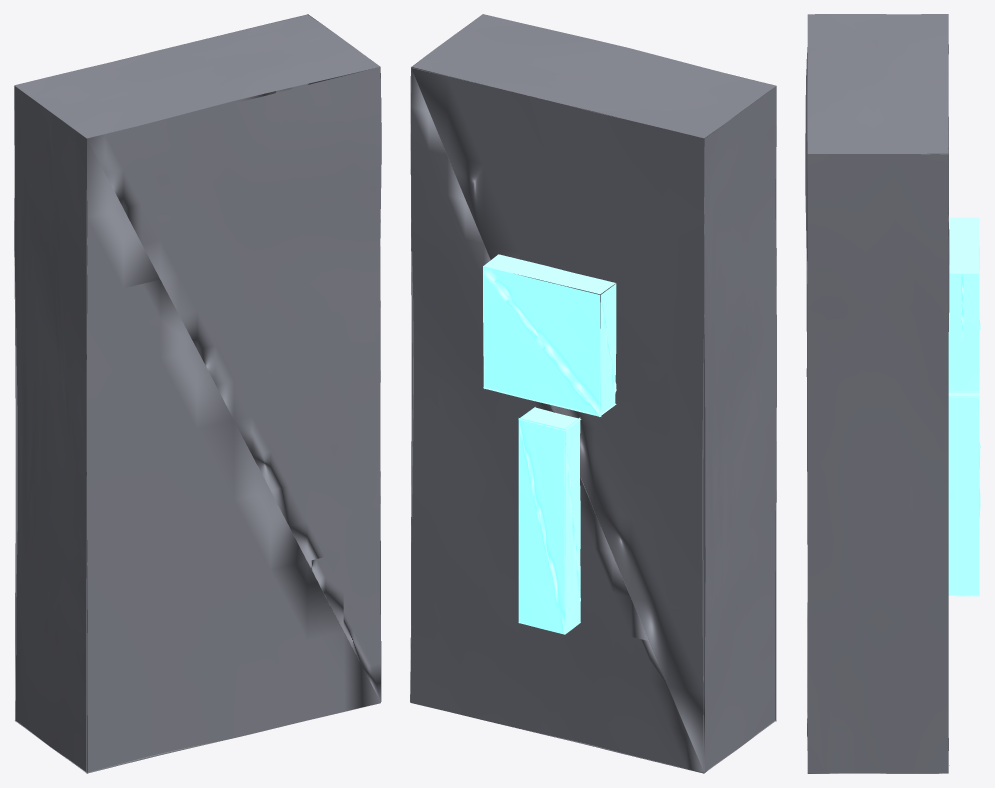
File: rune_stone.glb
3 renders of one model, left to right at view 1: azimuth 30°, elevation 25°; view 2: azimuth 150°, elevation 25°; view 3: azimuth 270°, elevation 25°, orthographic. The views are drawn at different scales.
Visible parts, largest first — view 1: RuneStone; view 2: RuneStone; view 3: RuneStone.
Part boxes in pixels (<box>): RuneStone: <box>14,14,381,773</box>; RuneStone: <box>410,14,776,773</box>; RuneStone: <box>805,14,980,773</box>.
Bounding box in the file's own units: 0.7535 × 1.56 × 0.3977.
